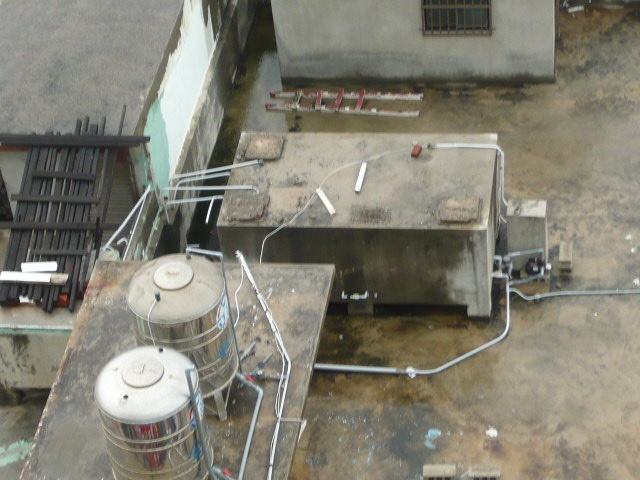water_tower: (127, 252, 242, 402), (92, 346, 217, 480)
